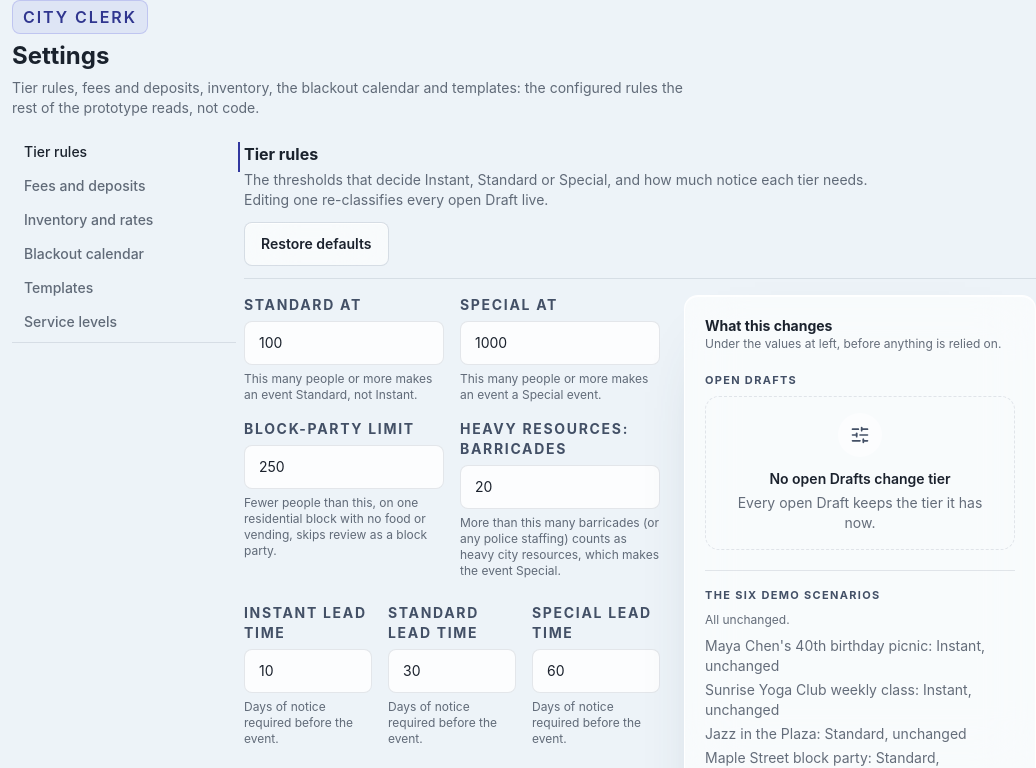
Test case: Settings: Tier rules (default section) › editing the Standard threshold updates the store's cfg and the scenario preview
Replace the text in the number field labelled "Standard at" with "40" at (344, 343), box [244,321,444,365]
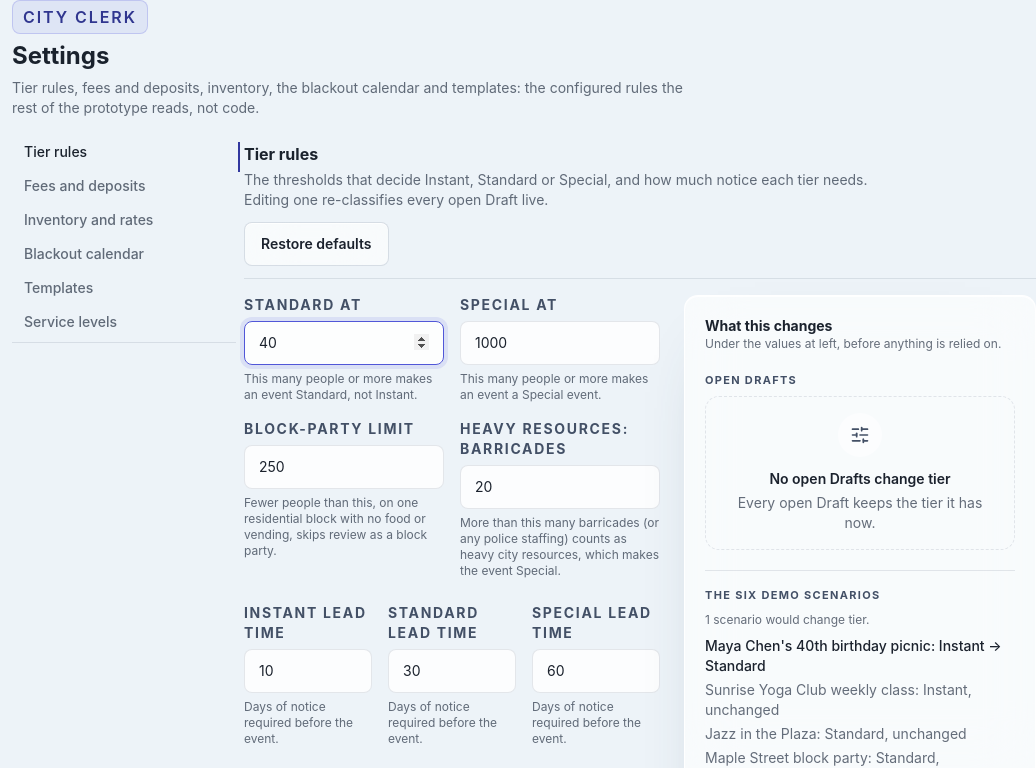
Now the list item "Maya Chen's 40th birthday picnic: Instant → Standard" is shown, box [705,636,1015,676]
Now the text "1 scenario would change tier." is shown, box [705,612,870,627]
